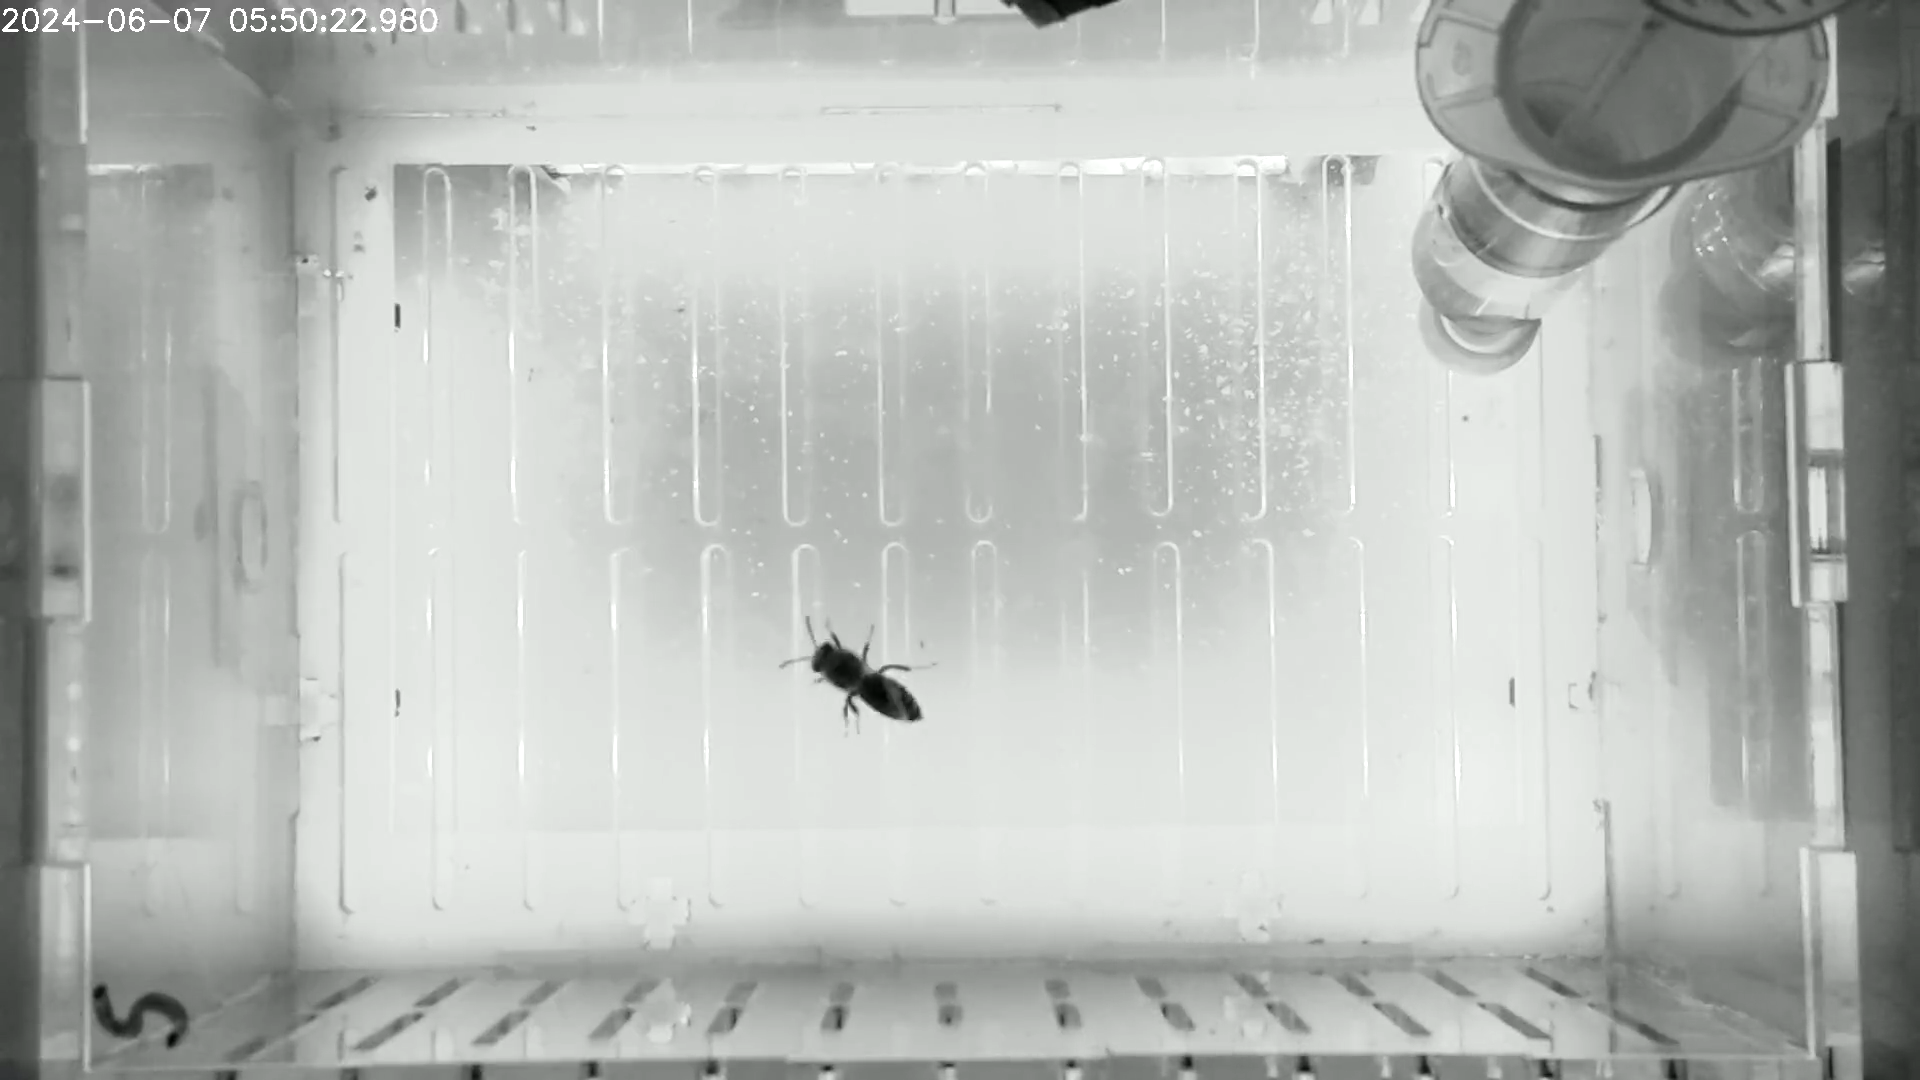bee: (777, 609, 944, 745)
feeder: (1400, 143, 1631, 342)
